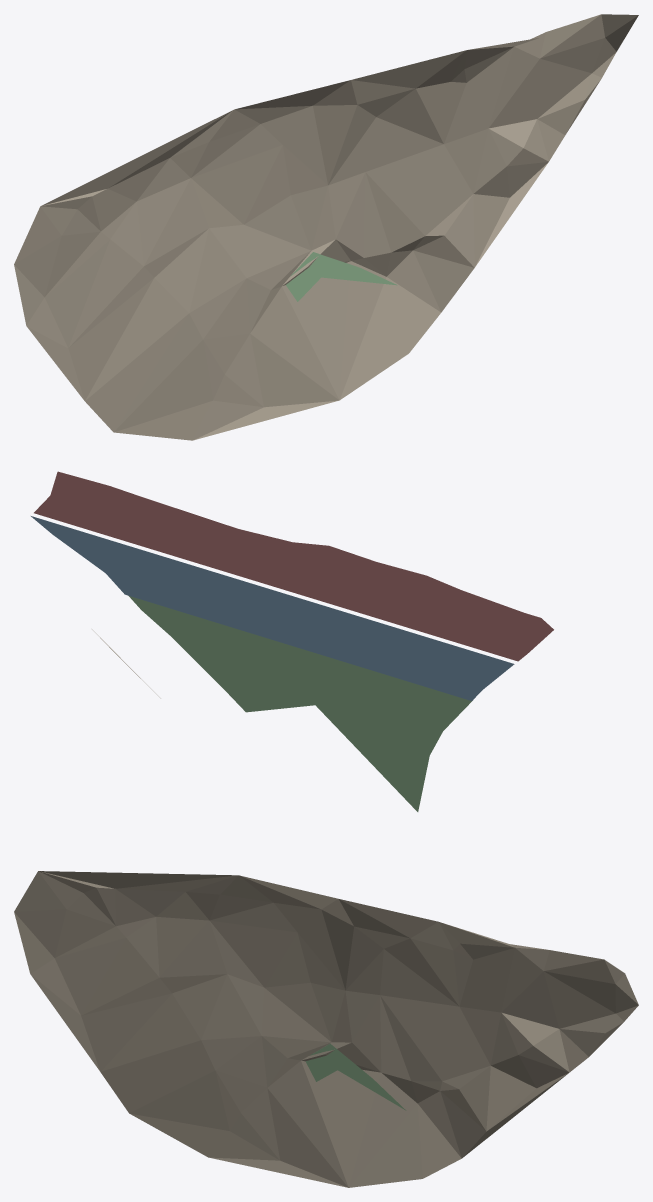
Rendered from CINCIN_arazi_model.glb.
3 views of the same model, one above another, from view 1: azimuth 30°, elevation 25°; view 2: azimuth 150°, elevation 25°; view 3: azimuth 330°, elevation 25° (orthographic). The views are drawn at different scales.
Visible parts, largest first — view 1: geometry_0, geometry_3; view 2: geometry_1, geometry_3, geometry_2; view 3: geometry_0, geometry_3.
Boxes of the visible parts, box(x1,y1,x2,y2) form: geometry_0: box(14, 14, 638, 440); geometry_3: box(286, 252, 397, 301); geometry_1: box(34, 471, 553, 661); geometry_3: box(128, 595, 472, 811); geometry_2: box(31, 516, 514, 700); geometry_0: box(14, 871, 638, 1187); geometry_3: box(305, 1043, 406, 1110).
Bounding box in the file's own units: 172 × 84 × 20.6.
